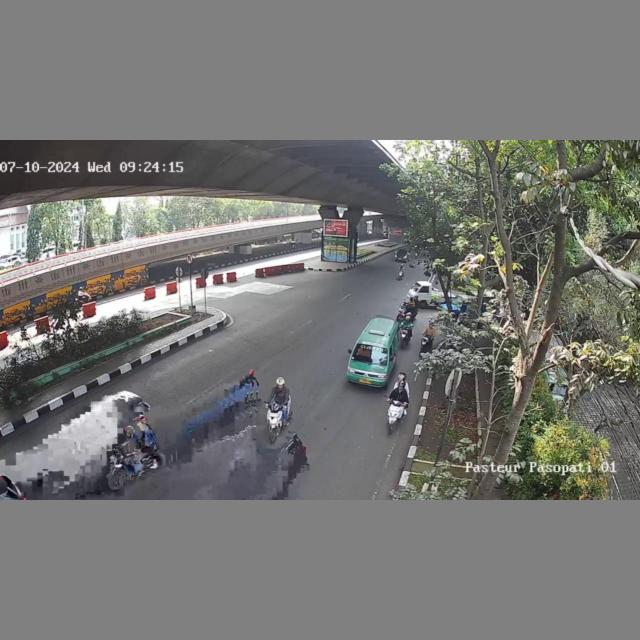windshield: (352, 343, 388, 366)
